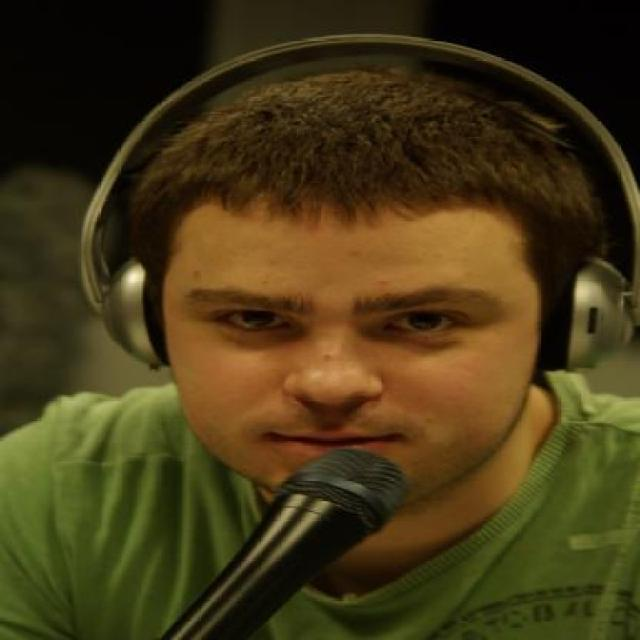earphone: (46, 22, 640, 390)
